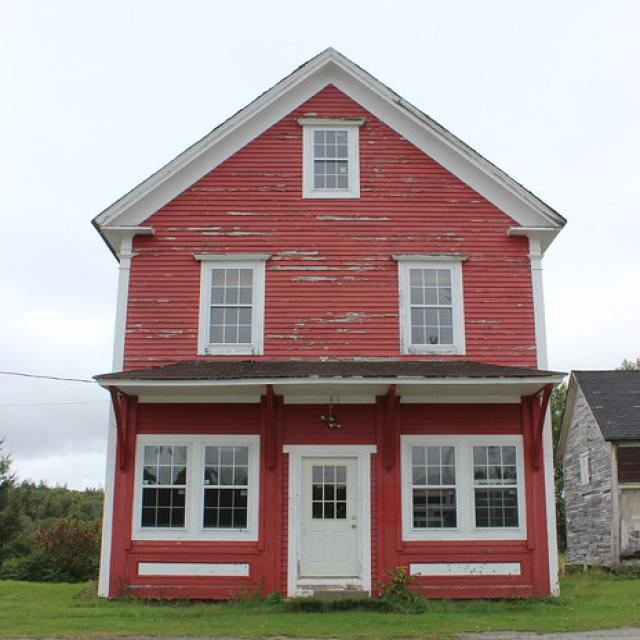building: (90, 46, 571, 612)
